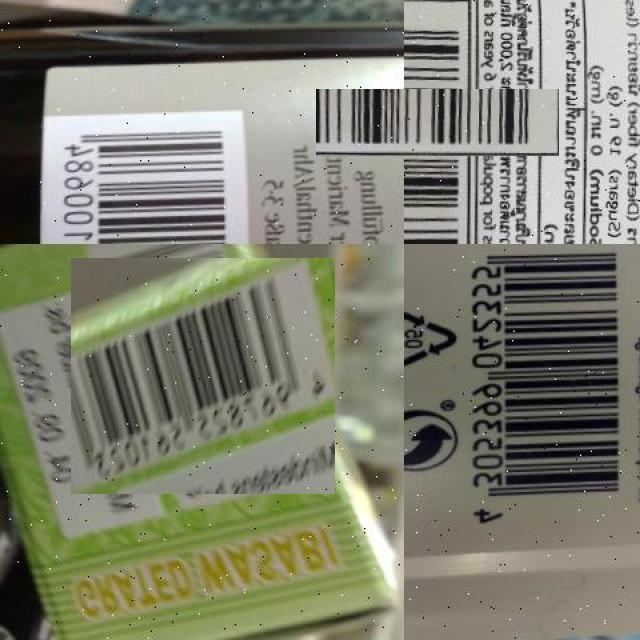Barcode: (77, 251, 328, 501), (460, 244, 635, 533), (44, 108, 251, 244), (360, 44, 515, 200)
